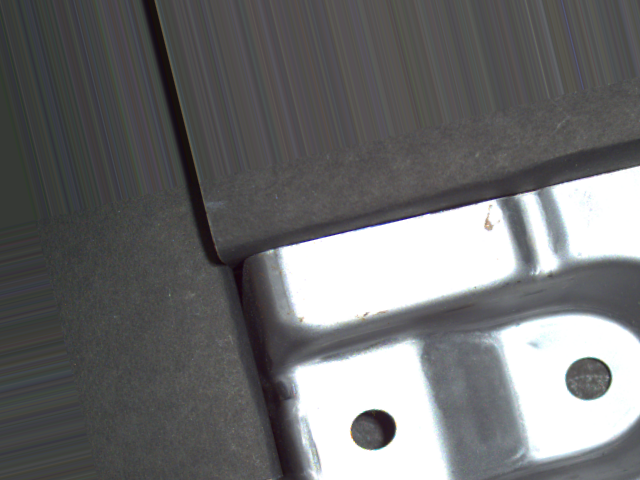defect: (561, 354, 620, 402)
